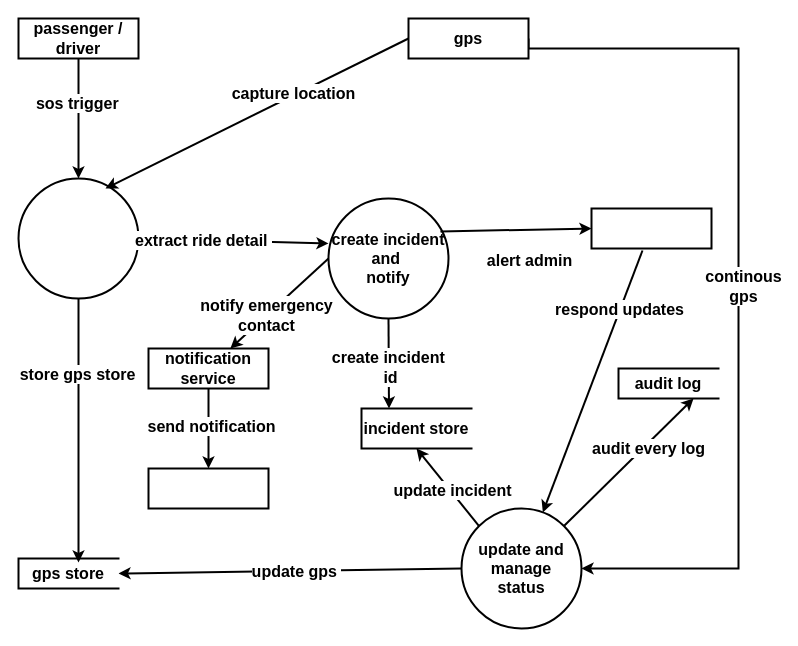
Some shapes in this 798 by 646 pixel diagram are drawn without their labels. Each missing label, with the centre of its shape:
"admin" belongs at pixel 651 228.
"emrgency contact" belongs at pixel 208 488.
"trigger sos and capture data" belongs at pixel 78 238.
